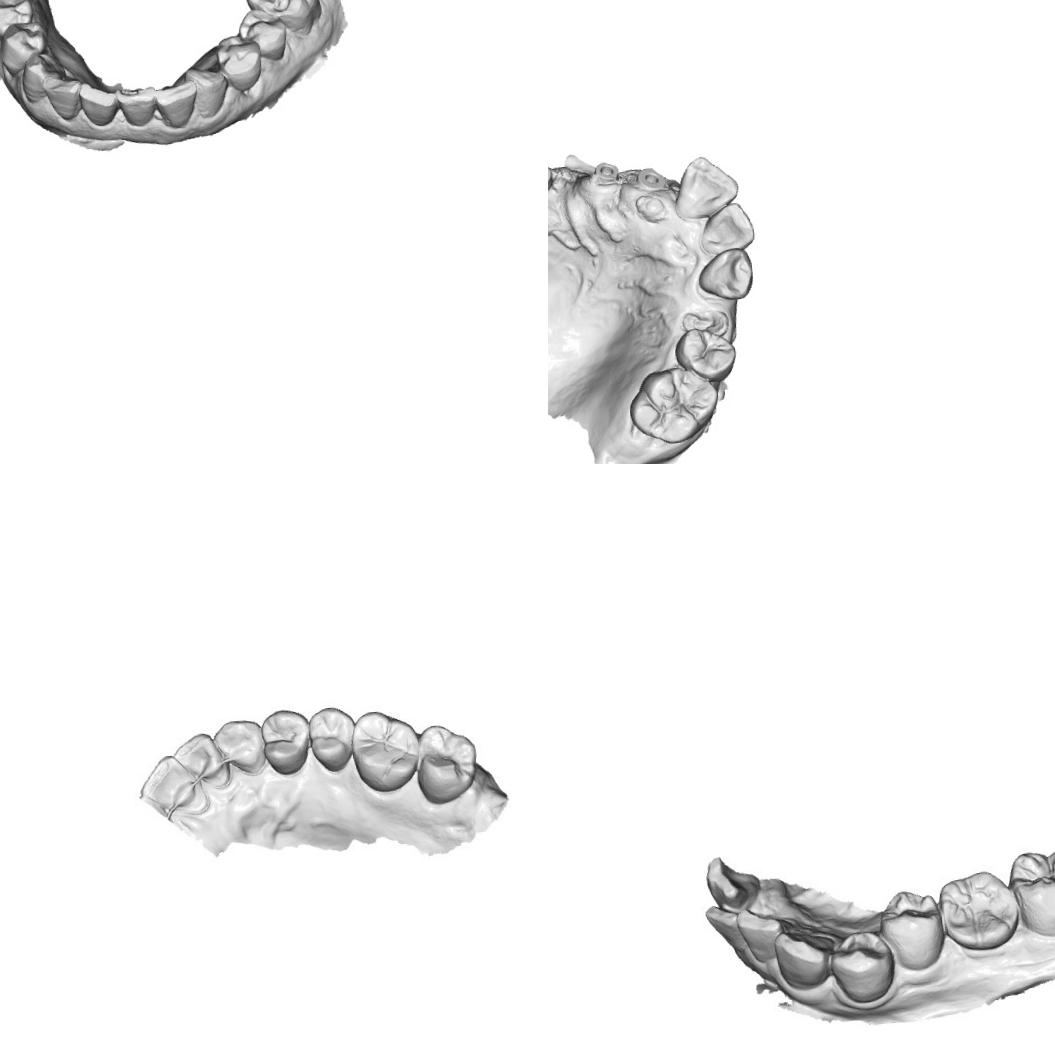canine: (824, 926, 902, 1012), (692, 244, 758, 304), (214, 714, 270, 776), (17, 45, 68, 103), (182, 62, 230, 120)
implant: (633, 164, 667, 197), (592, 158, 622, 188)
incisor: (668, 152, 742, 224), (774, 924, 842, 989), (138, 750, 202, 816), (170, 728, 232, 791), (736, 904, 797, 965), (694, 198, 758, 254), (707, 854, 767, 910), (153, 76, 200, 130), (40, 72, 86, 123), (114, 82, 161, 130), (76, 78, 120, 129)
molar: (624, 362, 724, 448), (345, 705, 424, 794), (410, 720, 480, 808), (1012, 840, 1055, 934), (240, 0, 323, 38)
premolar: (937, 866, 1021, 946), (880, 886, 952, 962), (671, 322, 740, 385), (257, 707, 313, 776), (308, 705, 359, 774), (234, 4, 288, 64), (214, 31, 264, 94), (0, 19, 50, 67), (0, 0, 35, 35)
